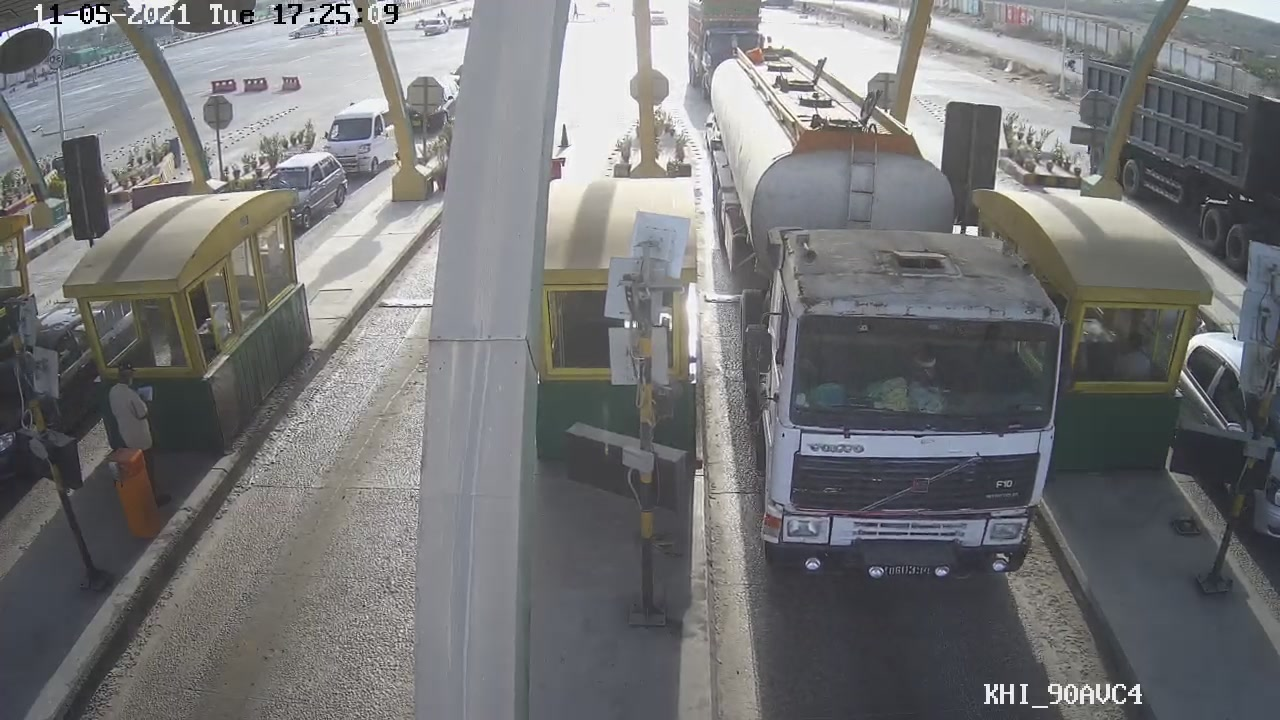F6: (707, 46, 1080, 599)
